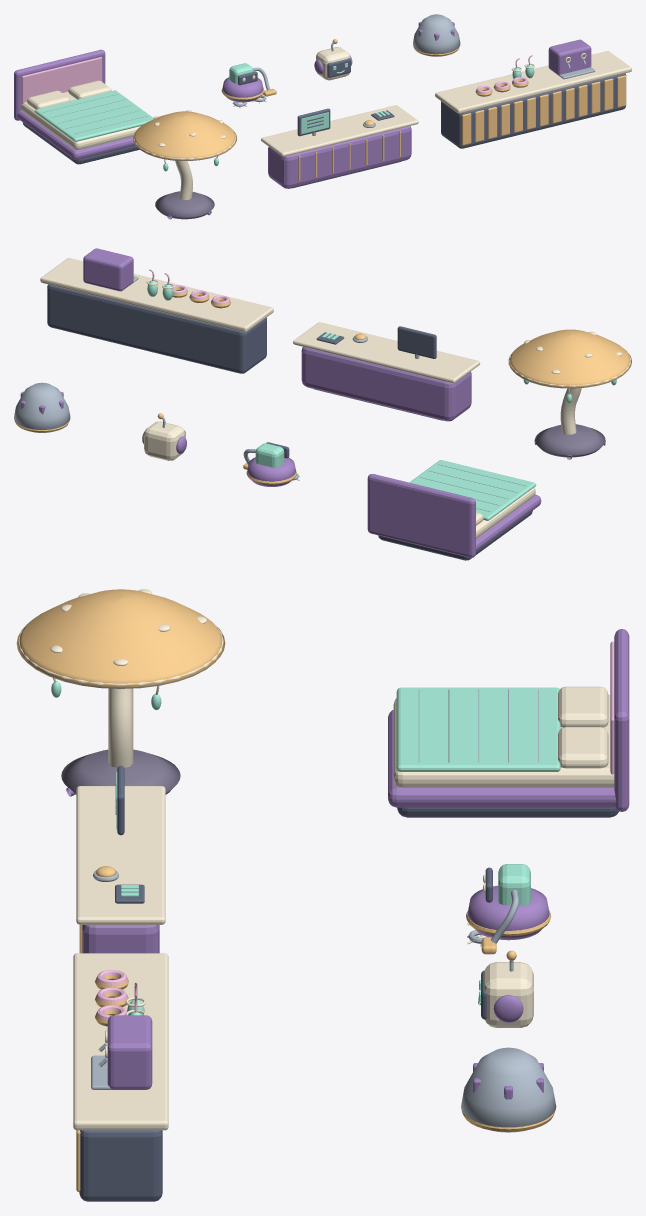
The model's file is ResortKit.fbx.
3 renders of one model, top to bottom at view 1: azimuth 30°, elevation 25°; view 2: azimuth 150°, elevation 25°; view 3: azimuth 270°, elevation 25°, orthographic. The views are drawn at different scales.
Visible parts, largest first — view 1: ReceptionDesk__plum, CafeCounter__orange, SporeTree__orange, CafeCounter__cream, SuiteBed__mint, CafeCounter__ink, ReceptionDesk__cream, SuiteBed__plum, SuiteBed__cream, SuiteBed__pink, RescueEngine__steel, SporeTree__soil (+12 smaller); view 2: CafeCounter__ink, SuiteBed__plum, ReceptionDesk__plum, SporeTree__orange, CafeCounter__cream, ReceptionDesk__cream, SuiteBed__mint, RescueEngine__steel, CafeCounter__plum, SporeTree__soil, ReceptionDesk__ink, RobotHelmet__cream (+5 smaller); view 3: SporeTree__orange, SuiteBed__mint, CafeCounter__cream, ReceptionDesk__cream, SuiteBed__cream, SuiteBed__plum, CafeCounter__ink, RescueEngine__steel, SporeTree__cream, CafeCounter__plum, SporeTree__soil, CleanerBot__plum (+7 smaller).
Part boxes in pixels (x1,y1,x2,y2): ReceptionDesk__plum: (268, 126, 411, 188); CafeCounter__orange: (462, 75, 626, 145); SporeTree__orange: (133, 111, 236, 160); CafeCounter__cream: (435, 51, 631, 113); SuiteBed__mint: (34, 90, 153, 141); CafeCounter__ink: (441, 73, 626, 148); ReceptionDesk__cream: (261, 105, 418, 156); SuiteBed__plum: (14, 49, 135, 159); SuiteBed__cream: (21, 80, 140, 149); SuiteBed__pink: (21, 57, 102, 104); RescueEngine__steel: (413, 14, 460, 56); SporeTree__soil: (155, 191, 214, 219); CafeCounter__ink: (47, 284, 266, 373); SuiteBed__plum: (367, 474, 541, 557); ReceptionDesk__plum: (301, 347, 471, 421); SporeTree__orange: (508, 329, 631, 387); CafeCounter__cream: (40, 258, 273, 332); ReceptionDesk__cream: (293, 322, 480, 383); SuiteBed__mint: (409, 460, 536, 520); RescueEngine__steel: (14, 382, 70, 432); CafeCounter__plum: (83, 248, 133, 291); SporeTree__soil: (535, 424, 605, 457); ReceptionDesk__ink: (314, 326, 442, 420); RobotHelmet__cream: (144, 421, 185, 460); SporeTree__orange: (16, 589, 225, 687); SuiteBed__mint: (396, 687, 560, 771); CafeCounter__cream: (73, 953, 168, 1130); ReceptionDesk__cream: (76, 786, 165, 924); SuiteBed__cream: (393, 686, 614, 787); SuiteBed__plum: (388, 629, 629, 811); CafeCounter__ink: (79, 1130, 162, 1201); RescueEngine__steel: (461, 1047, 556, 1132); SporeTree__cream: (18, 589, 223, 767); CafeCounter__plum: (107, 1015, 152, 1089); SporeTree__soil: (61, 749, 180, 794); CleanerBot__plum: (467, 885, 549, 940).
Size of the model in its own units: 3725 by 688 by 2055.
